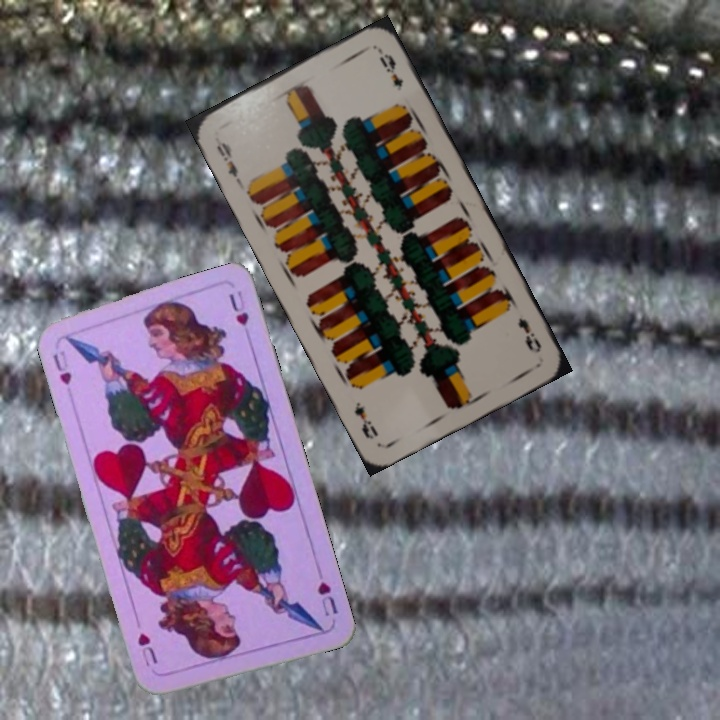E9: (210, 133, 245, 188), (513, 314, 544, 356)
HU: (313, 577, 341, 619), (48, 346, 74, 388)
